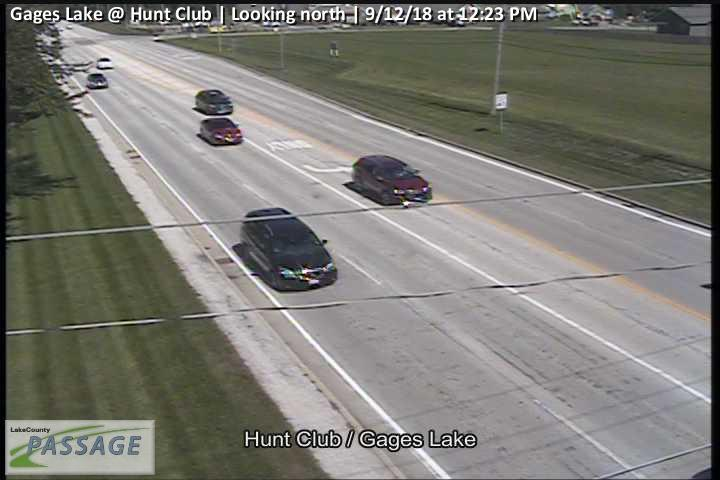SUV: (240, 208, 337, 291), (352, 155, 432, 206), (201, 118, 241, 146), (196, 90, 232, 115)
Sedan: (87, 74, 108, 88), (97, 57, 111, 68)
